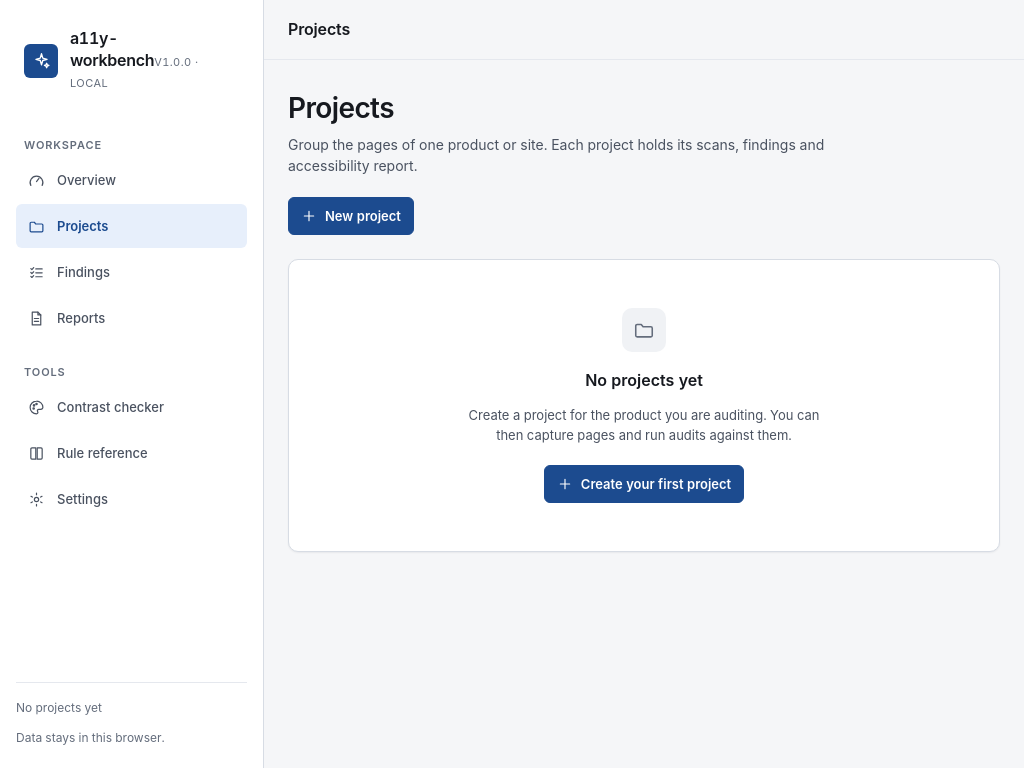
Scenario: create project → capture → findings › rejects an empty project name with an accessible error
This screenshot has width=1024, height=768.
Click the button "Create your first project" at (644, 484), box [544, 465, 744, 503]
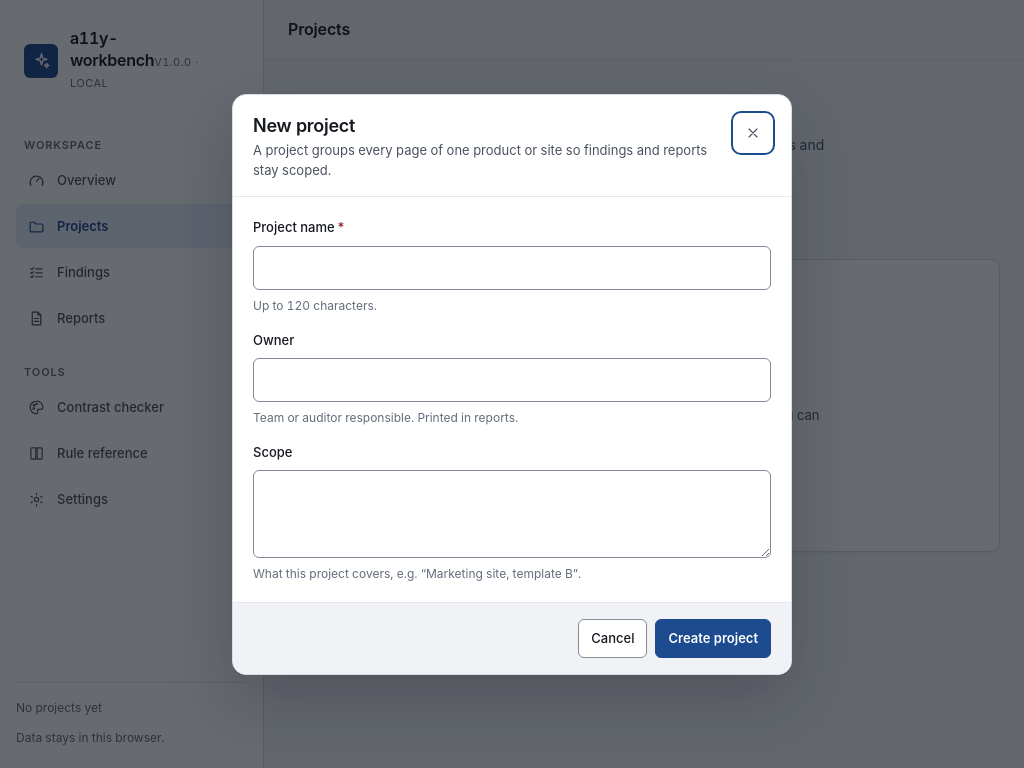
Click the button "Create project" at (713, 638), box [656, 619, 771, 658]
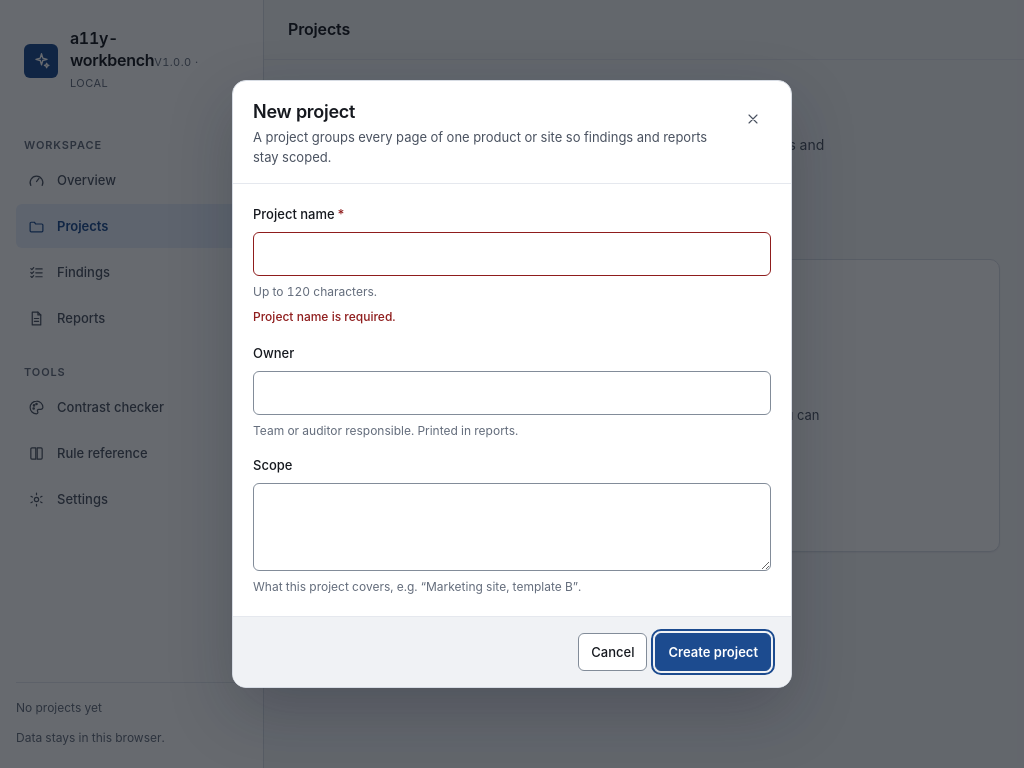
Now the text "Project name is required." is shown, box [253, 309, 396, 324]
